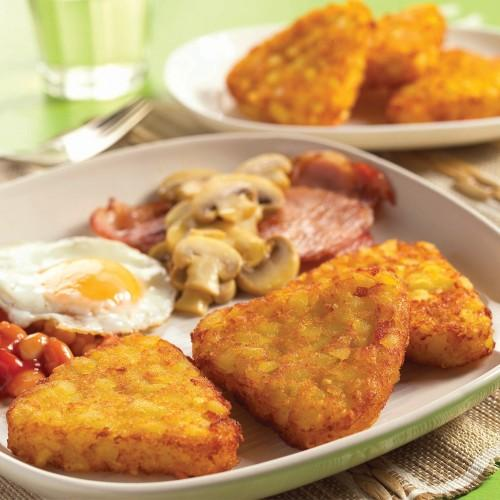fried_eggs: (9, 242, 170, 328)
triangle_hash_brown: (35, 255, 480, 486)
